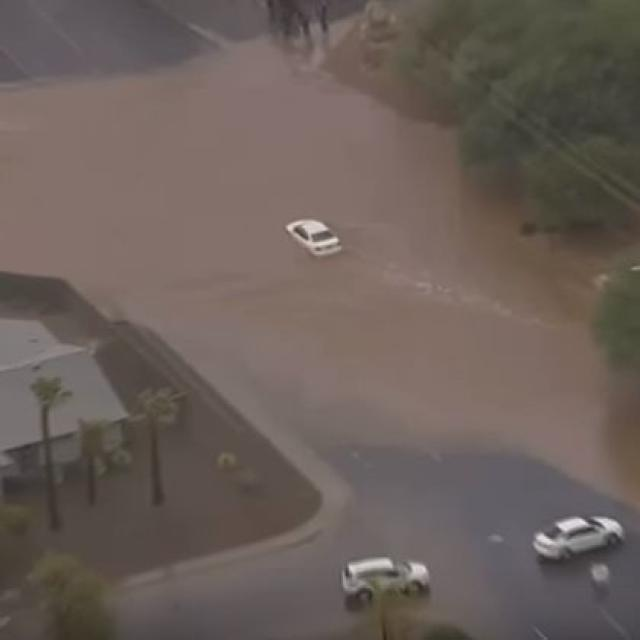flooded_areas: (59, 76, 638, 435)
